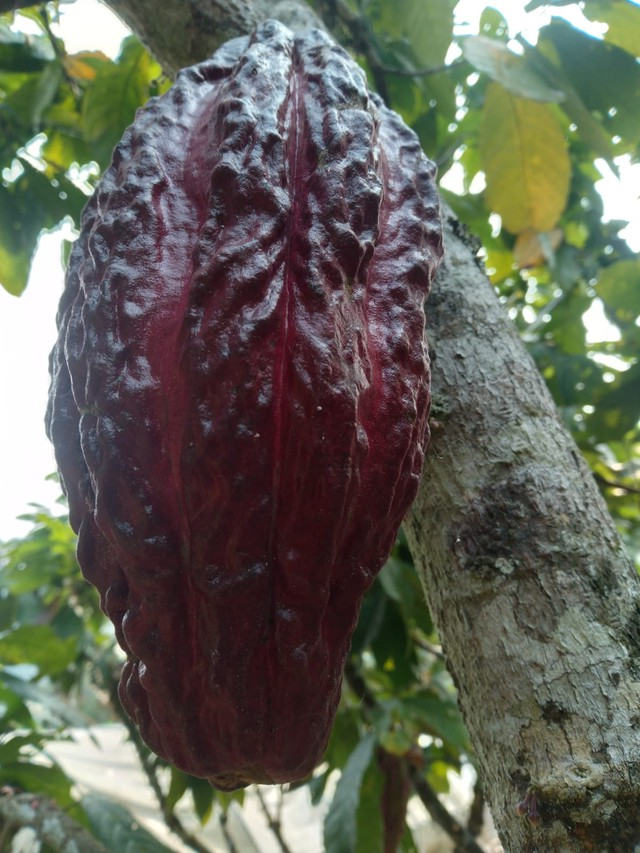Health: (36, 12, 451, 804)
